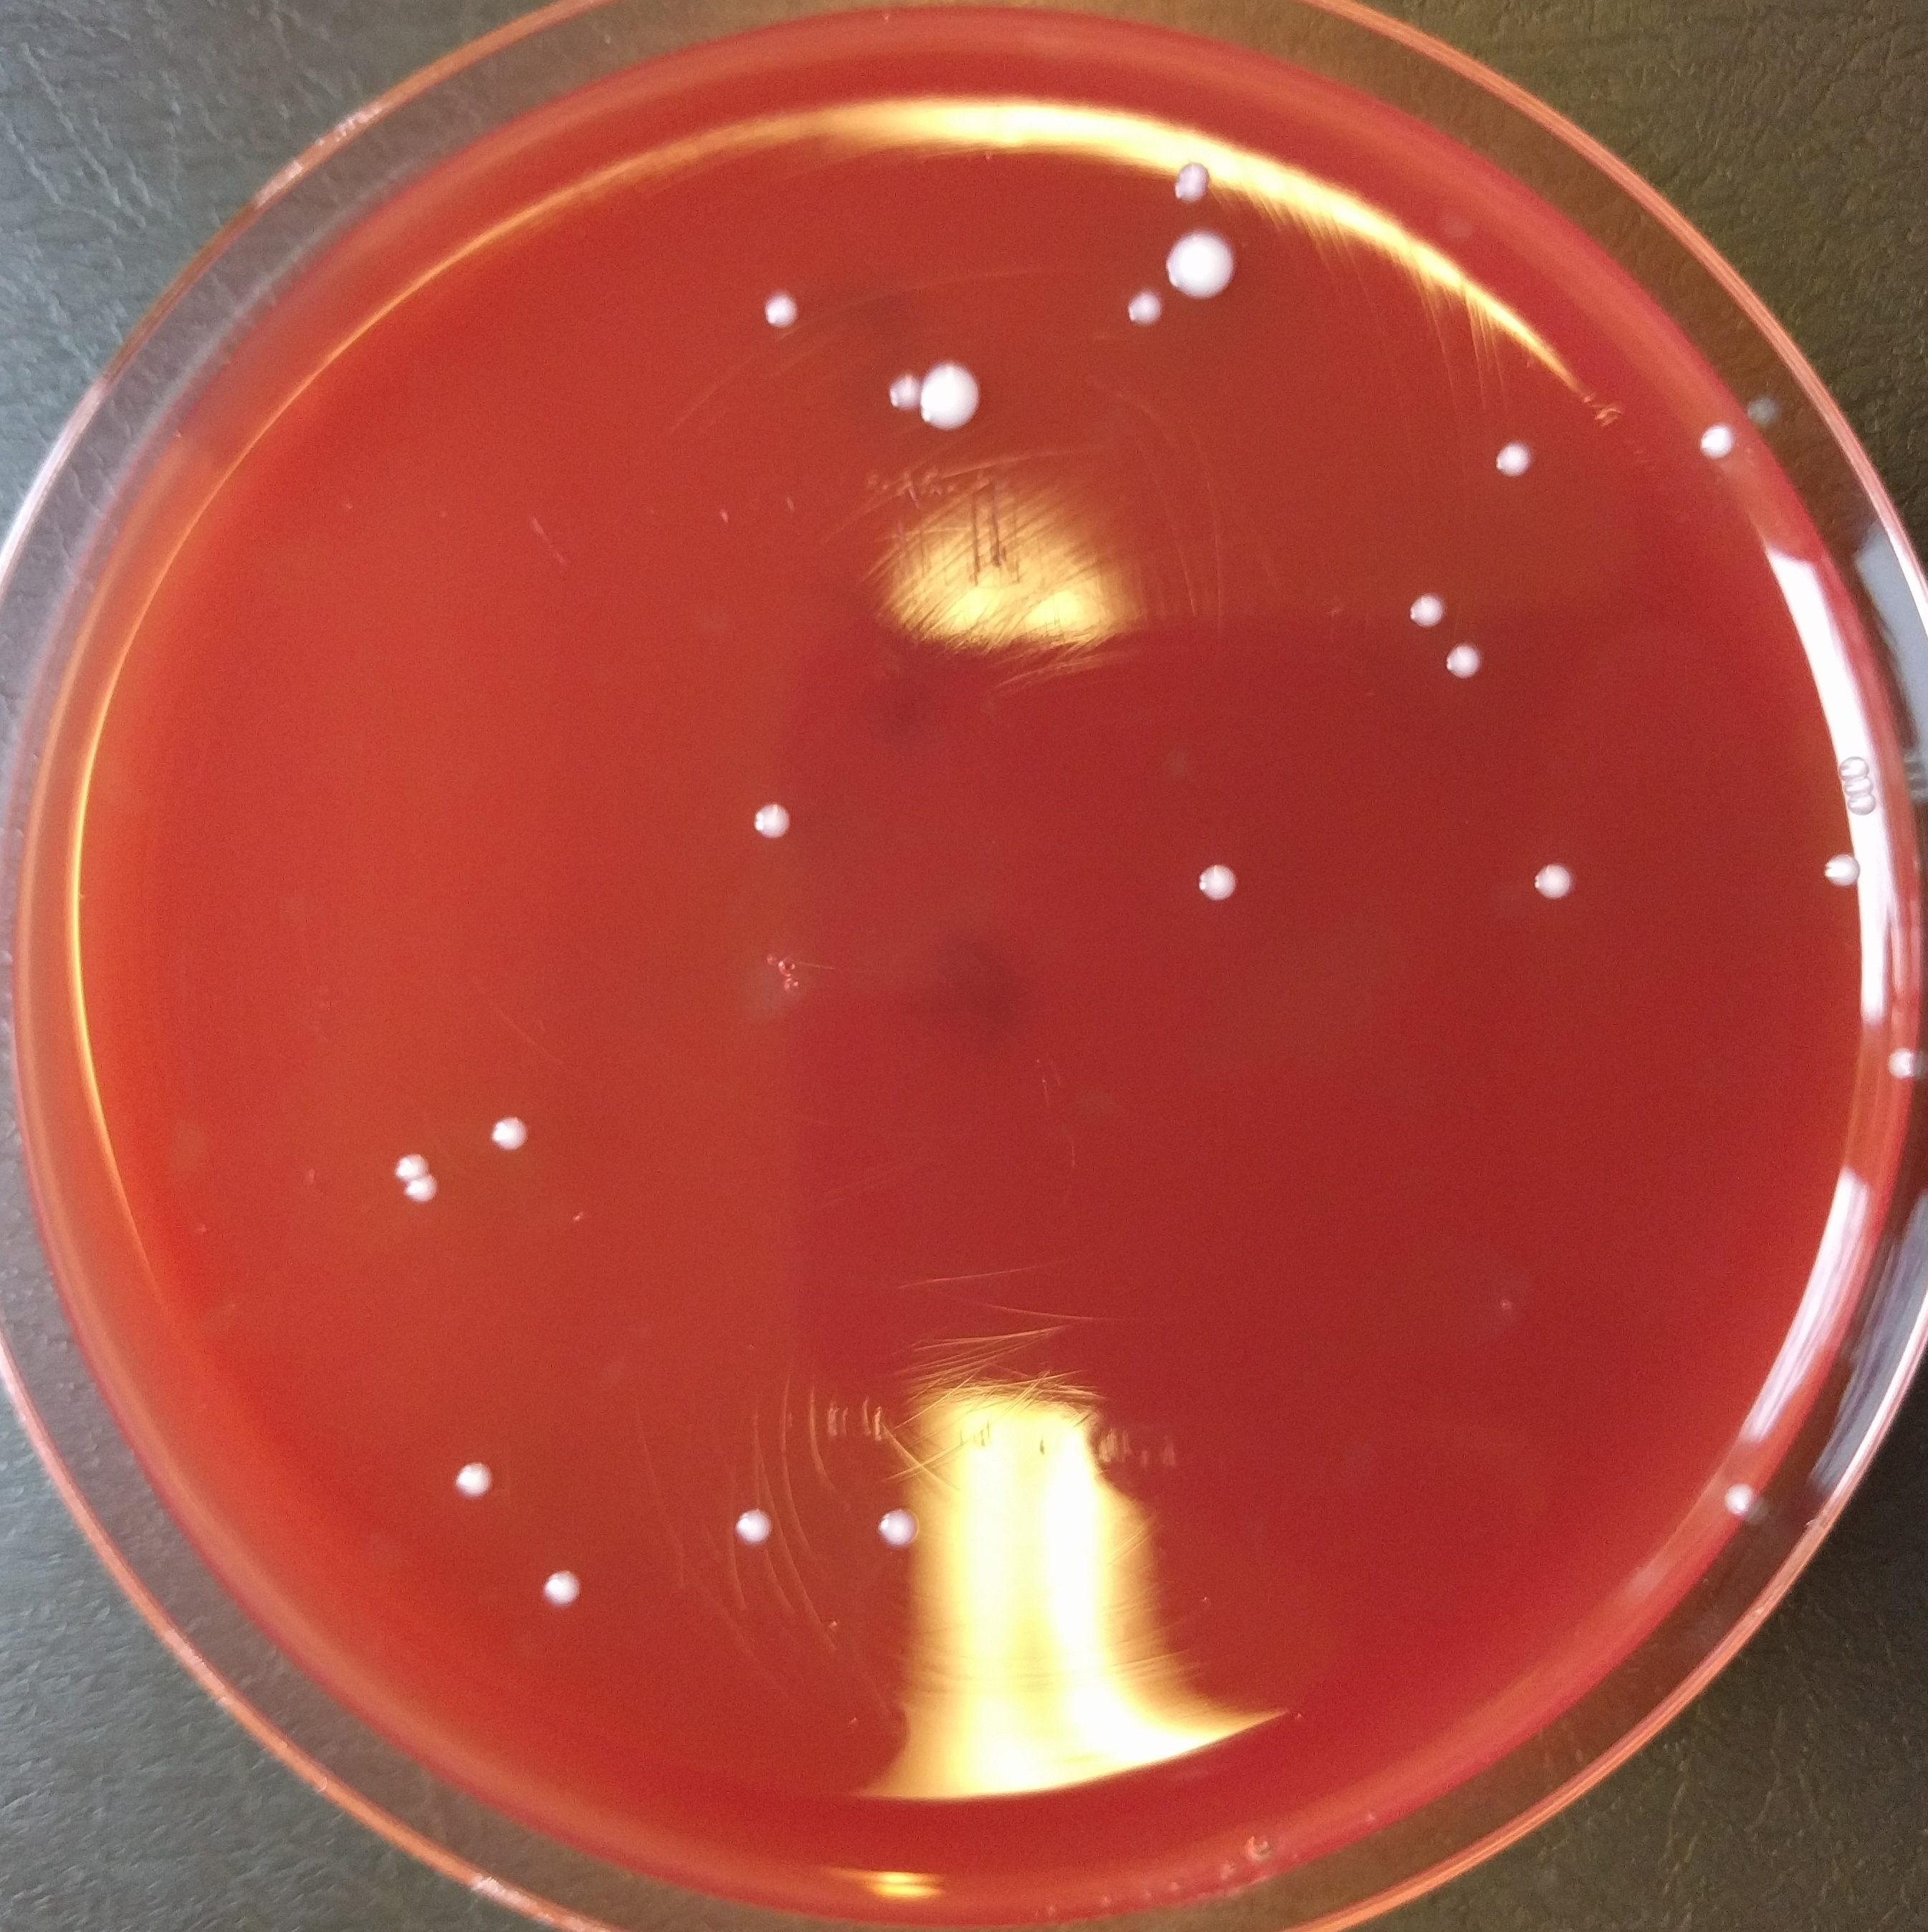sp23: (726, 789, 847, 890), (1165, 219, 1269, 323), (736, 277, 837, 381), (418, 1434, 530, 1506), (1133, 141, 1236, 214), (523, 1556, 613, 1635), (1683, 419, 1780, 491), (1533, 851, 1608, 943), (923, 353, 998, 445), (1185, 841, 1271, 913), (1485, 436, 1585, 498), (1100, 263, 1178, 343), (862, 343, 925, 434), (1709, 1473, 1790, 1543), (729, 1480, 784, 1577), (872, 1494, 945, 1566), (454, 1102, 549, 1155), (1811, 842, 1882, 906), (1437, 636, 1497, 692), (1886, 1035, 1928, 1091), (1414, 581, 1451, 629), (392, 1153, 426, 1183), (410, 1180, 440, 1208)
